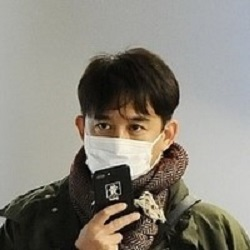mask: (84, 131, 164, 187)
